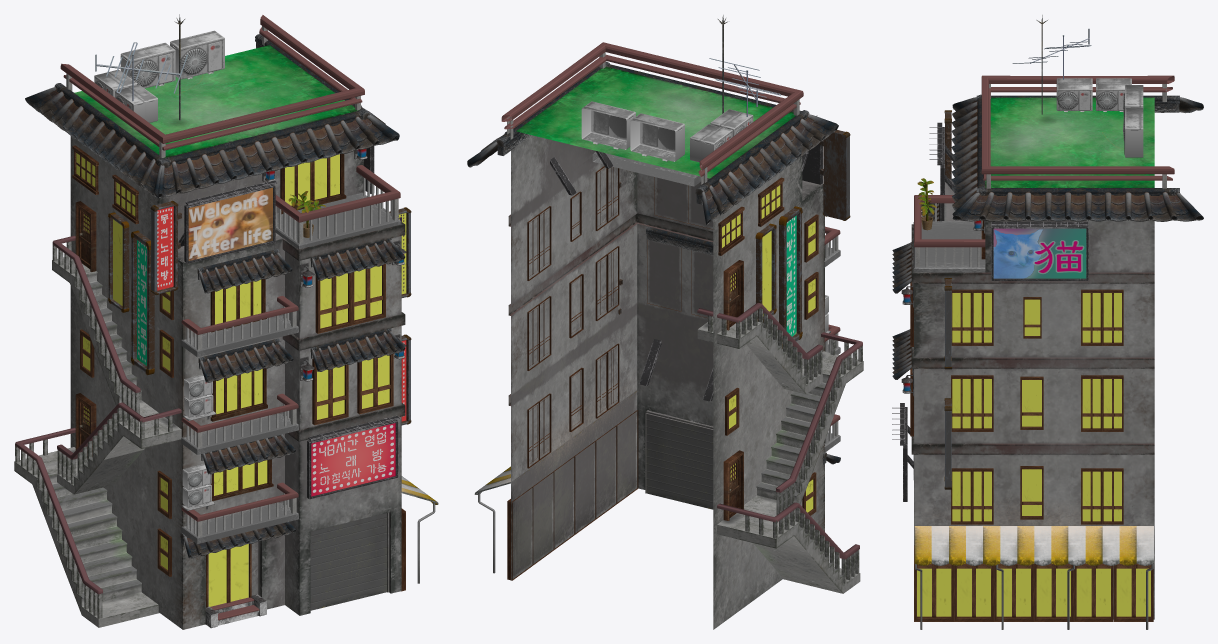
The model's file is apart 1.fbx.
3 renders of one model, left to right at view 1: azimuth 30°, elevation 25°; view 2: azimuth 150°, elevation 25°; view 3: azimuth 270°, elevation 25°, orthographic. The views are drawn at different scales.
Parts seen in each view (by area): view 1: base, Object029, Light, Object038, Object055, Object033, Object115, Object057, Object031; view 2: base, Object038, Object029, Object055, Object033, Object115, Light, Object031; view 3: base, Light, Object029, Object055, Object033, Object115, Object057.
Part boxes in pixels (x1=…): base: x1=70, y1=14, x2=438, y2=629; Object029: x1=25, y1=15, x2=405, y2=558; Light: x1=76, y1=153, x2=406, y2=606; Object038: x1=14, y1=235, x2=181, y2=627; Object055: x1=72, y1=145, x2=405, y2=591; Object033: x1=94, y1=30, x2=406, y2=514; Object115: x1=108, y1=200, x2=411, y2=425; Object057: x1=205, y1=191, x2=435, y2=628; Object031: x1=95, y1=42, x2=187, y2=101; base: x1=474, y1=15, x2=824, y2=629; Object038: x1=697, y1=303, x2=863, y2=593; Object029: x1=467, y1=42, x2=840, y2=464; Object055: x1=507, y1=166, x2=818, y2=580; Object033: x1=581, y1=101, x2=832, y2=421; Object115: x1=618, y1=130, x2=850, y2=348; Light: x1=722, y1=185, x2=815, y2=512; Object031: x1=709, y1=58, x2=780, y2=116; base: x1=892, y1=15, x2=1154, y2=619; Light: x1=917, y1=228, x2=1150, y2=616; Object029: x1=892, y1=75, x2=1203, y2=479; Object055: x1=910, y1=220, x2=1153, y2=621; Object033: x1=901, y1=78, x2=1143, y2=396; Object115: x1=944, y1=110, x2=951, y2=489; Object057: x1=915, y1=178, x2=1153, y2=629.
Size of the model in its own units: 644 by 1157 by 611.
